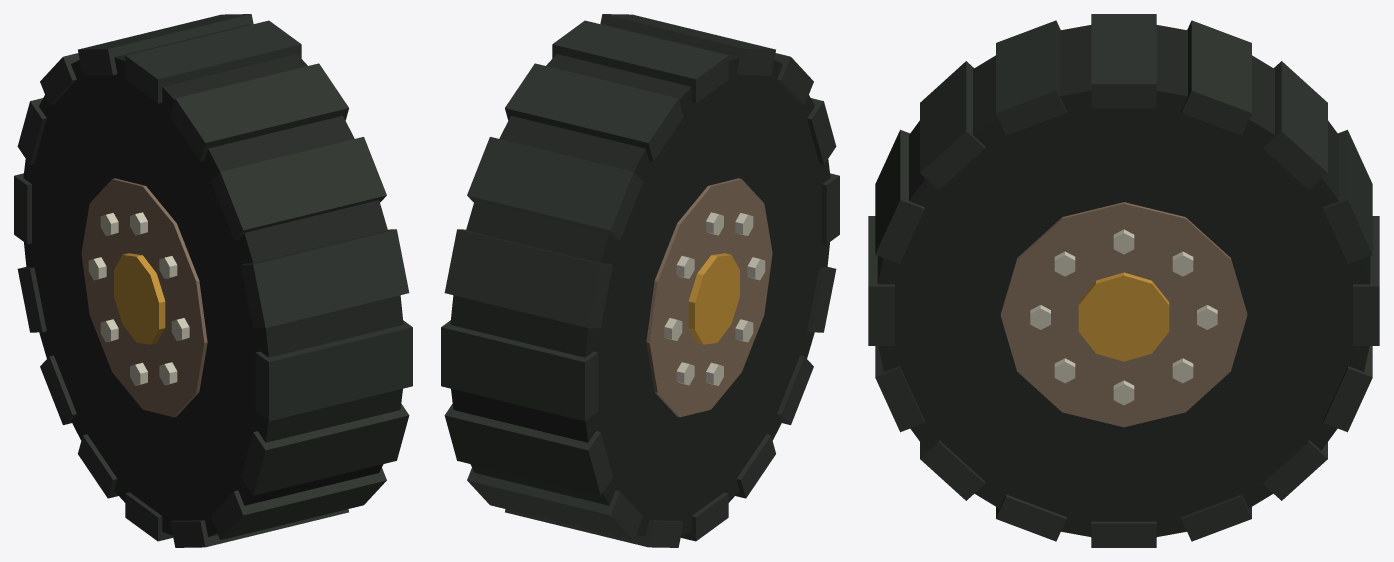
The model's file is wheel.glb.
3 renders of one model, left to right at view 1: azimuth 30°, elevation 25°; view 2: azimuth 150°, elevation 25°; view 3: azimuth 270°, elevation 25°, orthographic.
Bounding box in the file's own units: 1.22 × 3.44 × 3.44.
